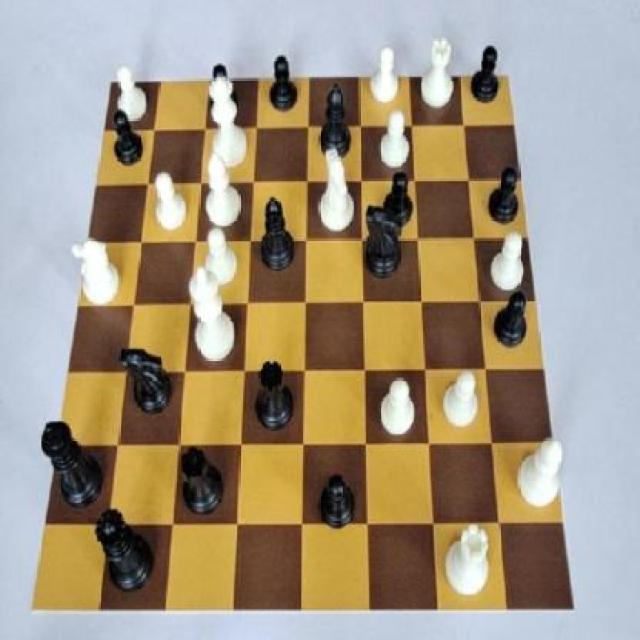bishop: (315, 80, 358, 178), (257, 191, 295, 281)
black-bishop: (36, 411, 106, 522)
black-king: (114, 335, 177, 421), (361, 197, 407, 283)
black-knight: (202, 38, 248, 118), (491, 282, 534, 361), (463, 38, 508, 111), (316, 457, 356, 538), (480, 163, 523, 234), (262, 49, 302, 117), (108, 106, 148, 174), (381, 166, 417, 231)
black-pawn: (92, 501, 163, 607)
black-queen: (174, 440, 228, 523), (251, 354, 303, 440)
black-rook: (509, 428, 570, 520), (197, 149, 243, 237)
white-bishop: (186, 263, 240, 371)
white-king: (69, 228, 124, 314), (314, 146, 356, 242)
white-knight: (374, 360, 420, 443), (488, 222, 532, 302), (438, 365, 484, 437), (374, 104, 416, 180), (203, 220, 245, 296), (149, 163, 192, 236), (114, 49, 148, 127), (368, 41, 402, 116)
white-pawn: (204, 76, 248, 182)
white-queen: (443, 518, 497, 612), (414, 31, 458, 123)
